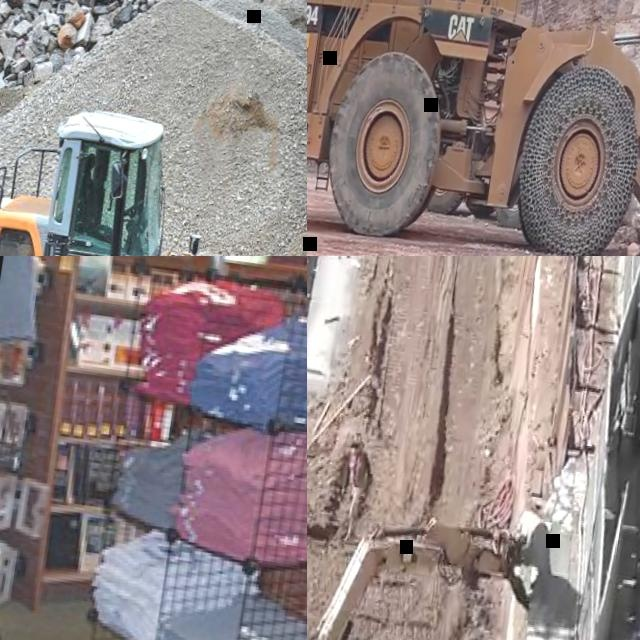Person: (338, 435, 377, 542)
machinery: (307, 0, 640, 256), (0, 78, 307, 256), (307, 464, 562, 640)
